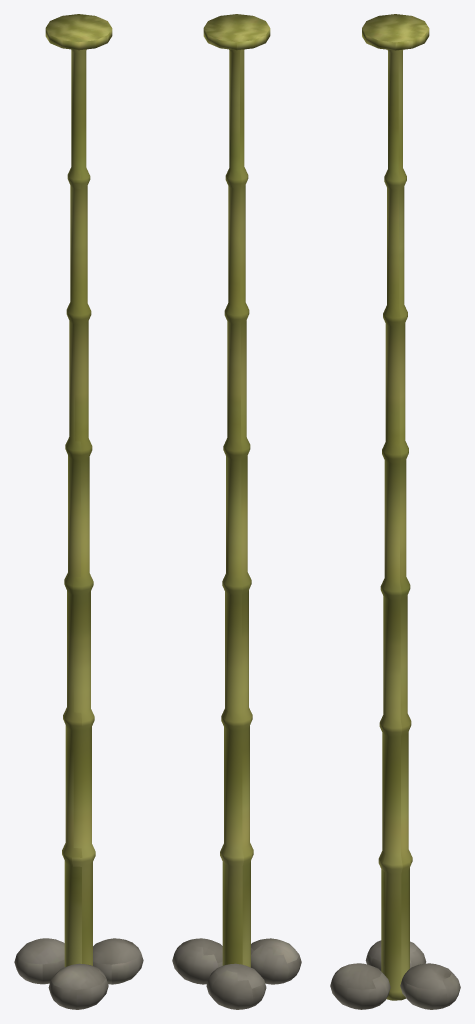
The model's file is gourd-prop-lamp-pole.glb.
The picture shows the model from 3 angles, left to right: view 1: azimuth 30°, elevation 25°; view 2: azimuth 150°, elevation 25°; view 3: azimuth 330°, elevation 25°; orthographic projection.
Visible parts, largest first — view 1: pole, stones, shelf; view 2: pole, stones, shelf; view 3: pole, stones, shelf.
Boxes of the visible parts, x1,y1,x2,y2 form: pole: (62, 49, 95, 966); stones: (14, 938, 143, 1009); shelf: (45, 14, 112, 50); pole: (220, 49, 253, 967); stones: (172, 938, 301, 1009); shelf: (203, 14, 270, 50); pole: (378, 49, 412, 1000); stones: (330, 940, 460, 1009); shelf: (362, 14, 429, 50).
Bounding box in the file's own units: 0.0259 × 0.2242 × 0.026.
Materials: 2 (2 with a texture image).
